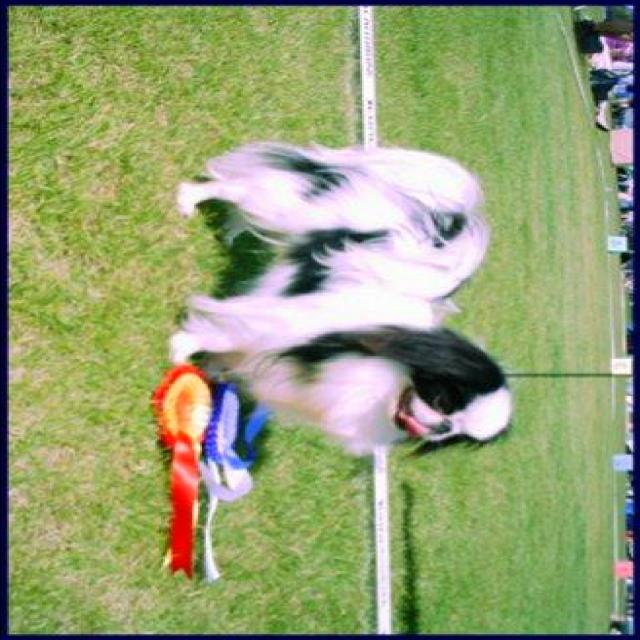husky: (164, 142, 517, 462)
